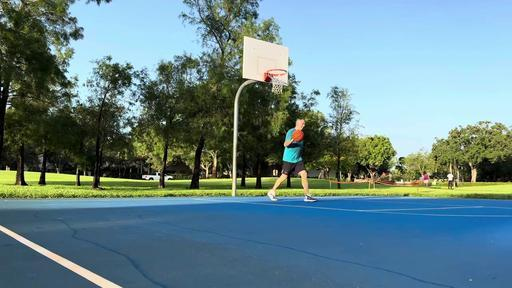ball: (293, 130, 305, 142)
human: (267, 118, 318, 203)
rim: (268, 70, 286, 94)
